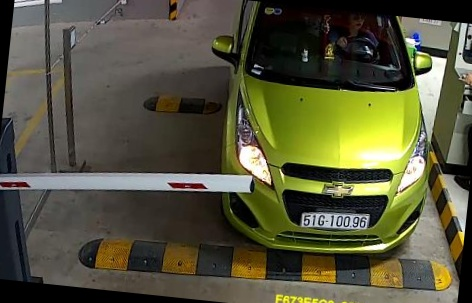plate: (299, 206, 374, 236)
